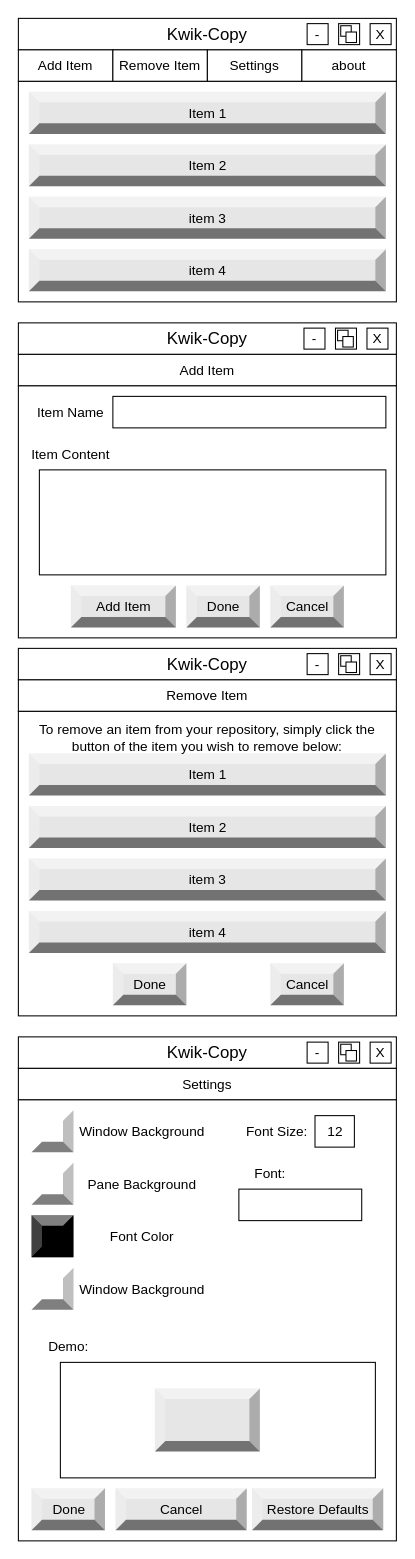
The diagram is 415 pixels wide and 1559 high, and some of its shapes have lost their labels. Here are the shapes that lost their labels. From the top down, the centre of each, then its label:
At (x=300, y=1204): "Times New Roman".
At (x=206, y=1419): "Button".
